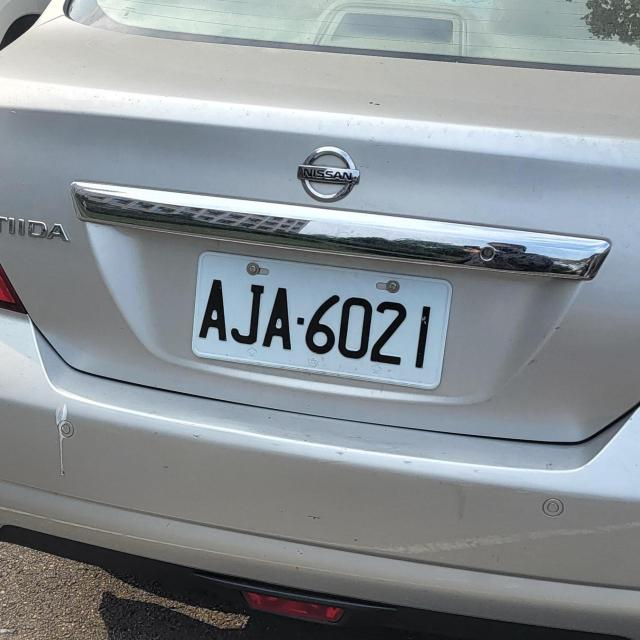W: (190, 252, 454, 387)
